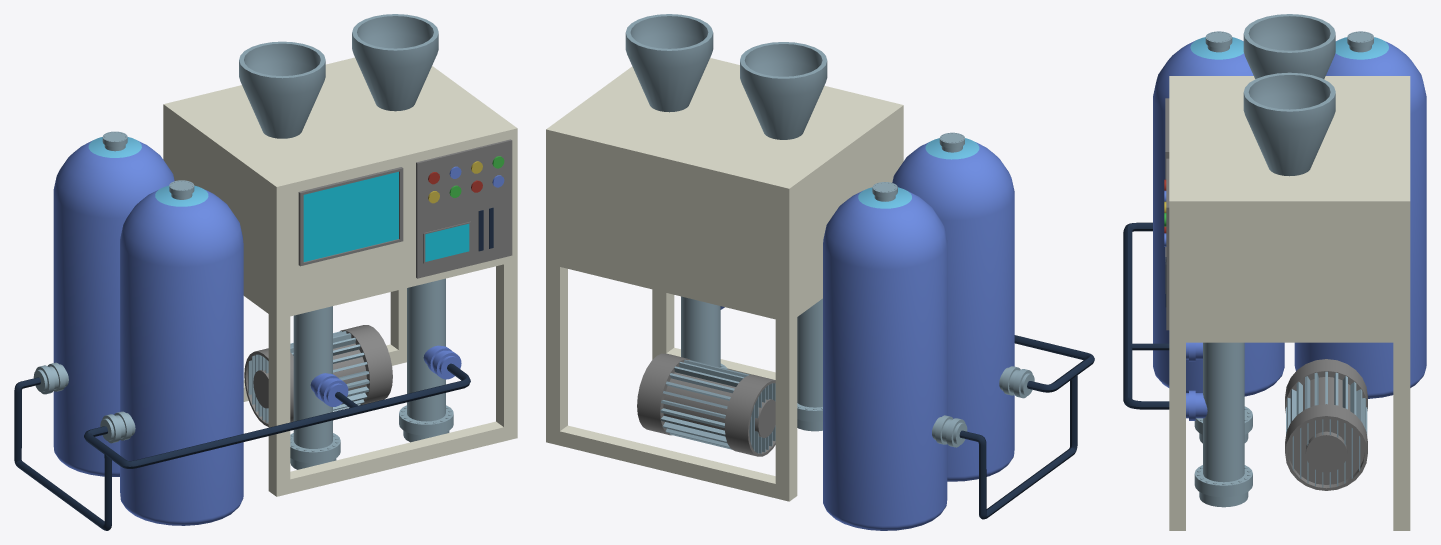
Rendered from Tank.glb.
3 renders of one model, left to right at view 1: azimuth 30°, elevation 25°; view 2: azimuth 150°, elevation 25°; view 3: azimuth 270°, elevation 25°, orthographic. The views are drawn at different scales.
Parts seen in each view (by area): view 1: Tank; view 2: Tank; view 3: Tank.
Part boxes in pixels (x1,y1,x2,y2): Tank: (14, 14, 517, 530); Tank: (546, 14, 1094, 530); Tank: (1123, 14, 1426, 530).
Size of the model in its own units: 3.09 by 2.75 by 1.85.
